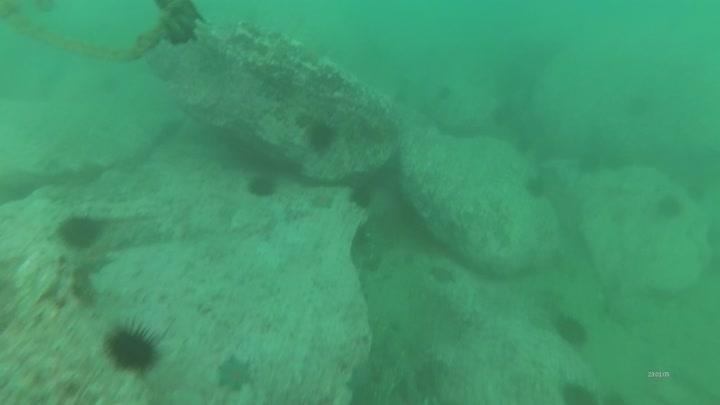echinus: (102, 320, 163, 376), (55, 212, 104, 251), (552, 312, 591, 349), (304, 118, 339, 153), (557, 380, 599, 405), (245, 172, 280, 201), (653, 192, 685, 222), (346, 182, 376, 211), (434, 82, 464, 108), (508, 130, 538, 156), (578, 154, 608, 180), (626, 100, 656, 126), (523, 173, 550, 201)
starfish: (212, 352, 256, 395), (343, 358, 381, 404), (78, 250, 116, 276), (426, 262, 458, 288), (306, 187, 338, 213)
